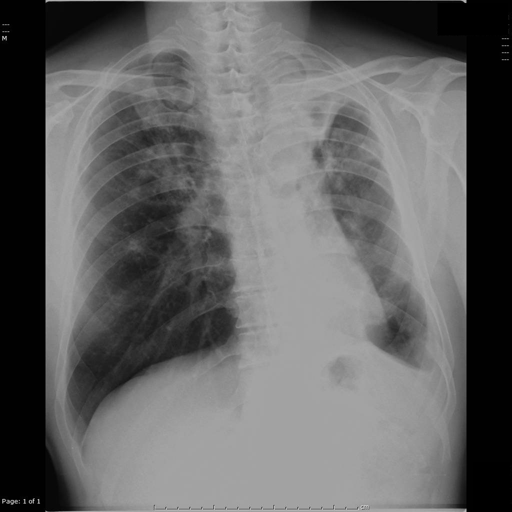TB: (310, 122, 356, 208)
